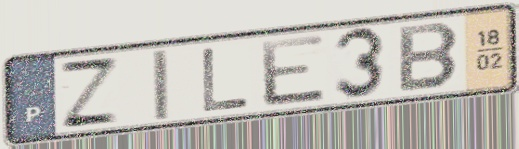3: (329, 24, 394, 103)
B: (396, 21, 463, 95)
E: (257, 32, 330, 110)
I: (149, 47, 172, 123)
L: (199, 46, 254, 115)
Z: (56, 56, 122, 130)
